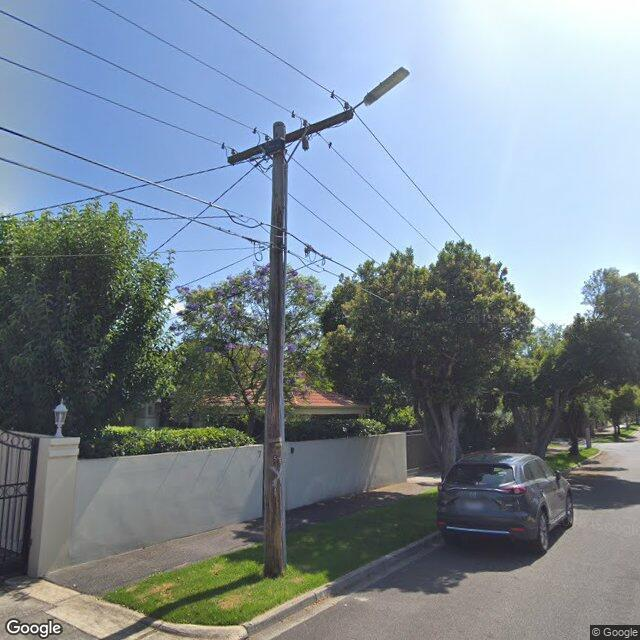crossarm: (227, 110, 353, 166)
streetlight: (350, 65, 410, 112)
timber-pole: (263, 121, 287, 579)
